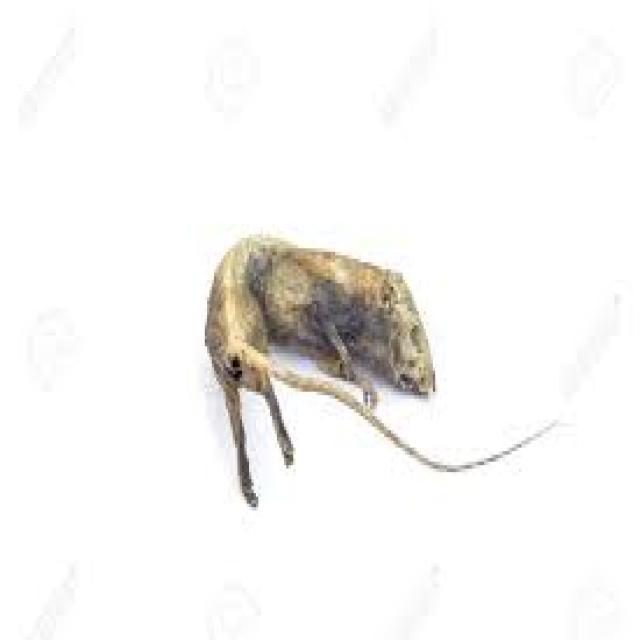rat: (203, 231, 435, 507)
